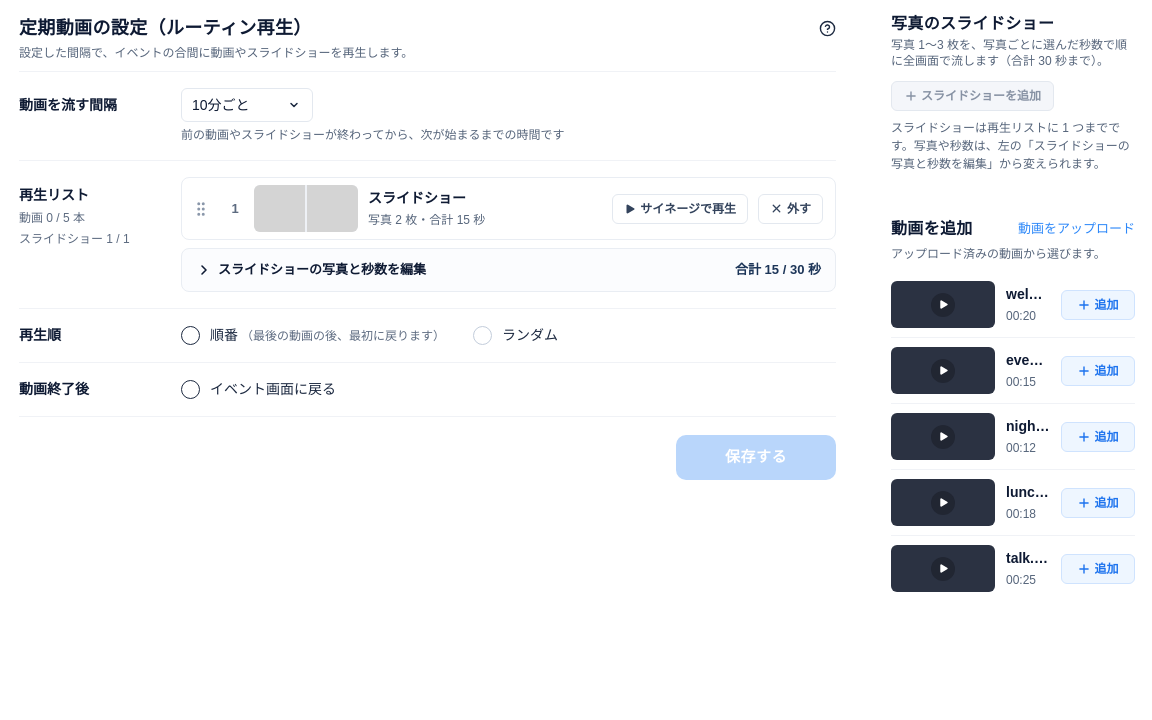
Scenario: スライドショーを追加 › 外すと、また「スライドショーを追加」を押せる
Click the button "外す".
click(790, 208)  # box [758,194,823,224]
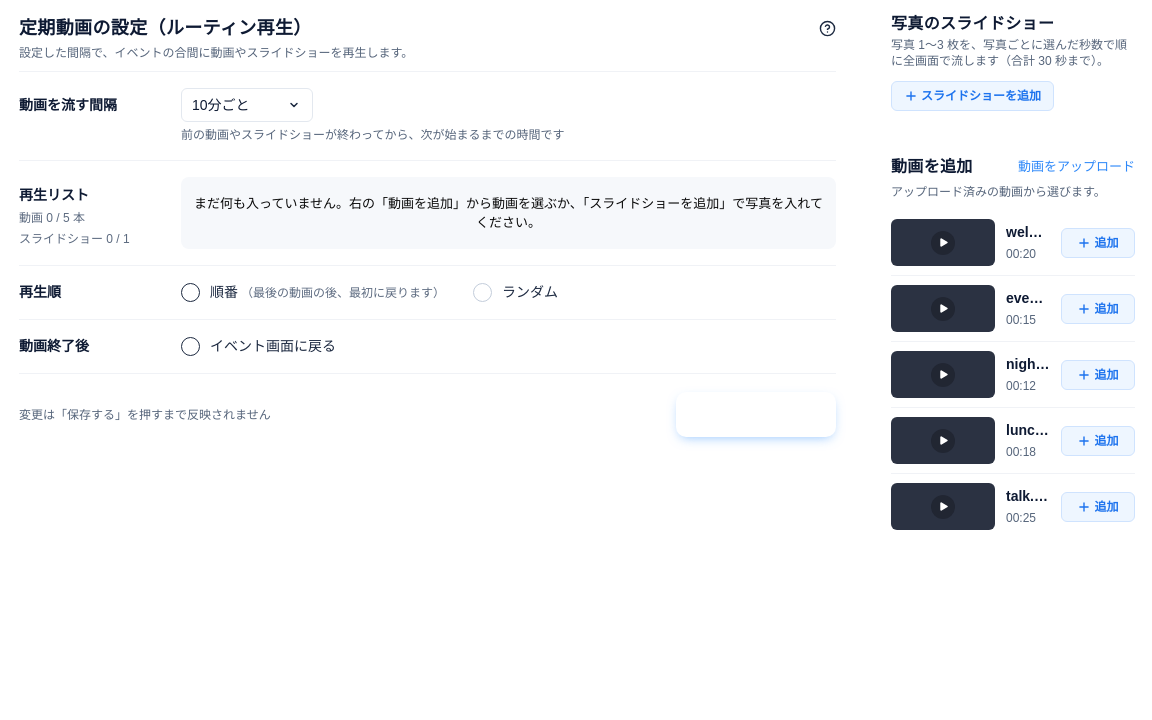
Expected: the button "保存する" is enabled, [676,392,836,437]
Now the button "スライドショーを追加" is enabled, box [891,81,1054,111]
Now the text "スライドショーは再生リストに 1 つまでです。写真や秒数は、左の「スライドショーの写真と秒数を編集」から変えられます。" is gone
